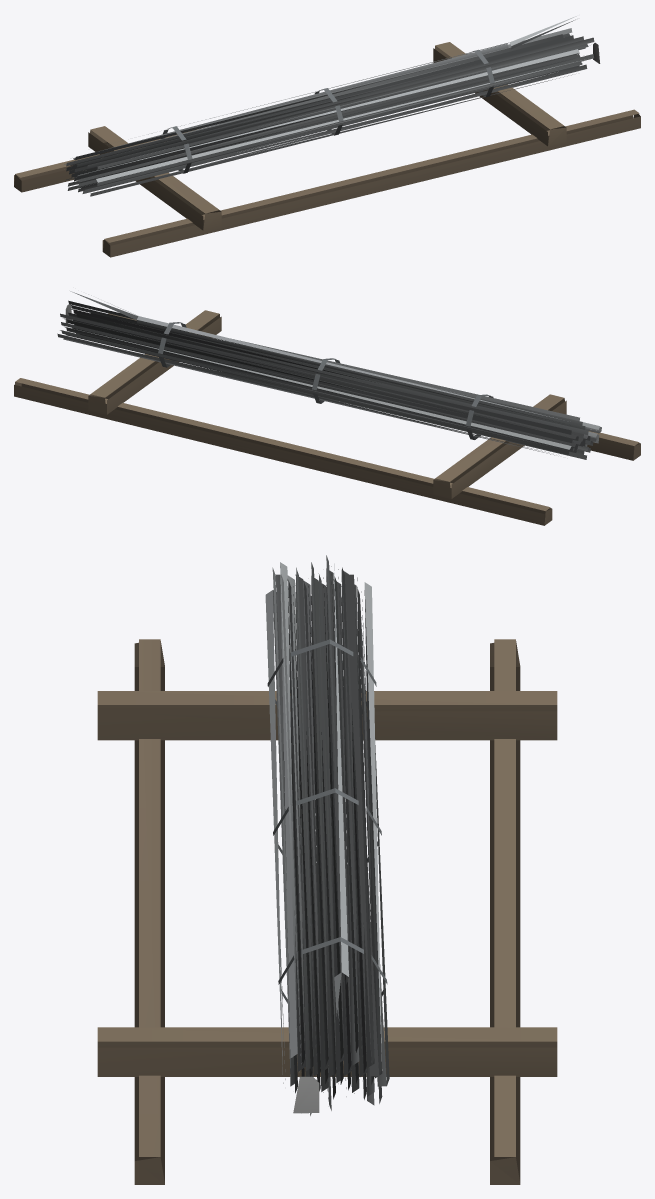
The model's file is tubes.lod.glb.
3 views of the same model, one above another, from view 1: azimuth 30°, elevation 25°; view 2: azimuth 150°, elevation 25°; view 3: azimuth 270°, elevation 25° (orthographic). The views are drawn at different scales.
Visible parts, largest first — view 1: tubes; view 2: tubes; view 3: tubes.
Boxes of the visible parts, left/top/right/bottom form: tubes: left=14, top=16, right=640, bottom=257; tubes: left=14, top=291, right=640, bottom=525; tubes: left=97, top=555, right=557, bottom=1184.
Bounding box in the file's own units: 4 × 0.5701 × 1.5.
